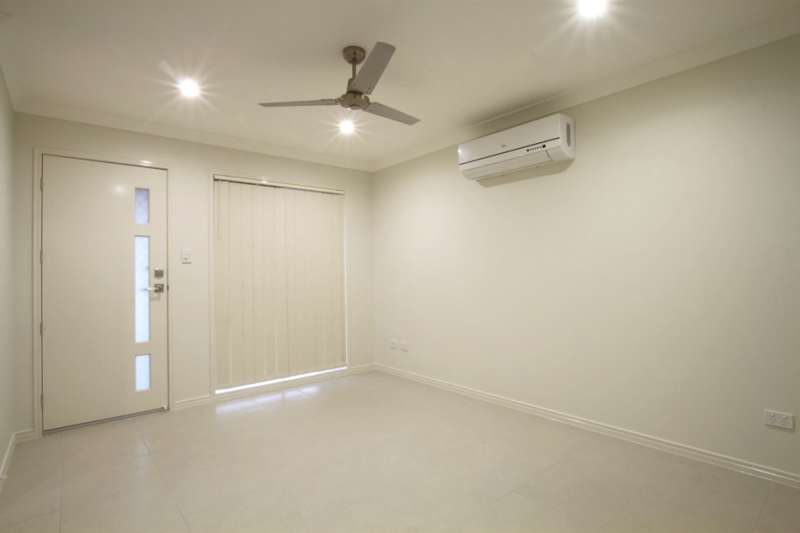ceiling fan: (253, 40, 425, 146)
